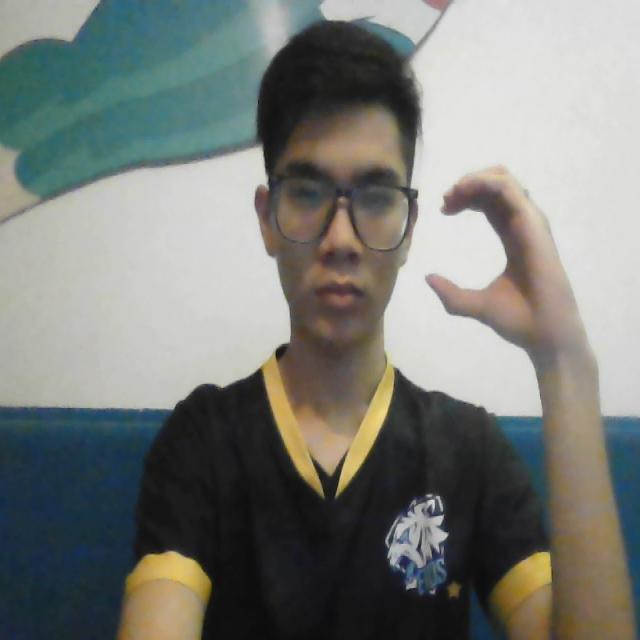C: (423, 155, 563, 339)
